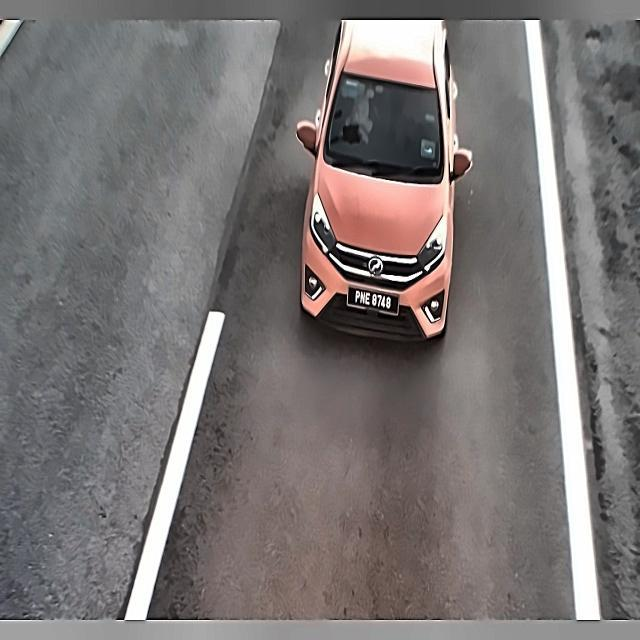car: (347, 281, 401, 324)
